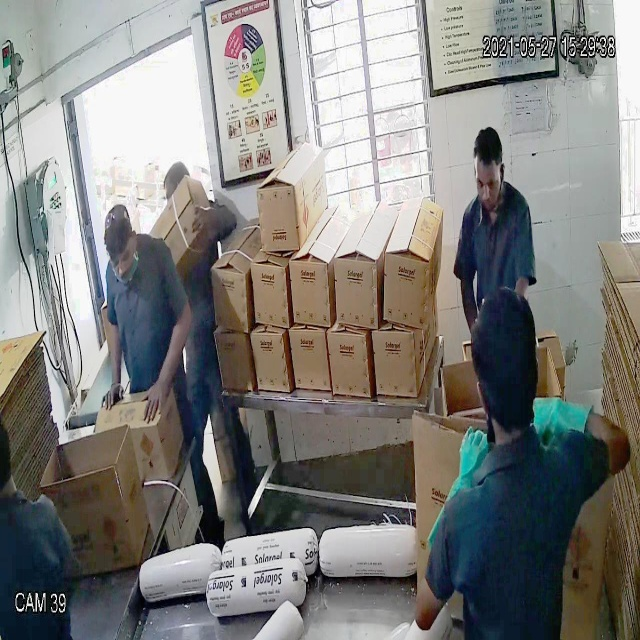Sin_gafas: (470, 167, 504, 197), (104, 244, 136, 271)
